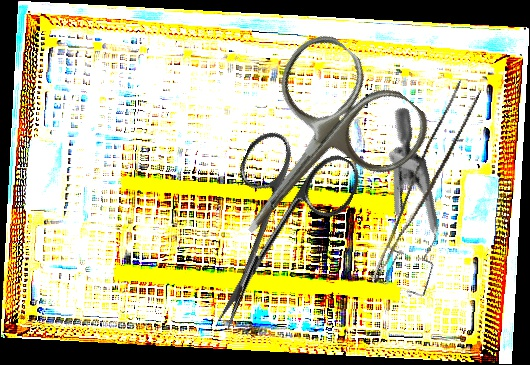Iris Scissors: (187, 23, 440, 282), (173, 118, 367, 353)
Speculum: (303, 104, 497, 316)
Tissue Forceps: (370, 76, 483, 294)
